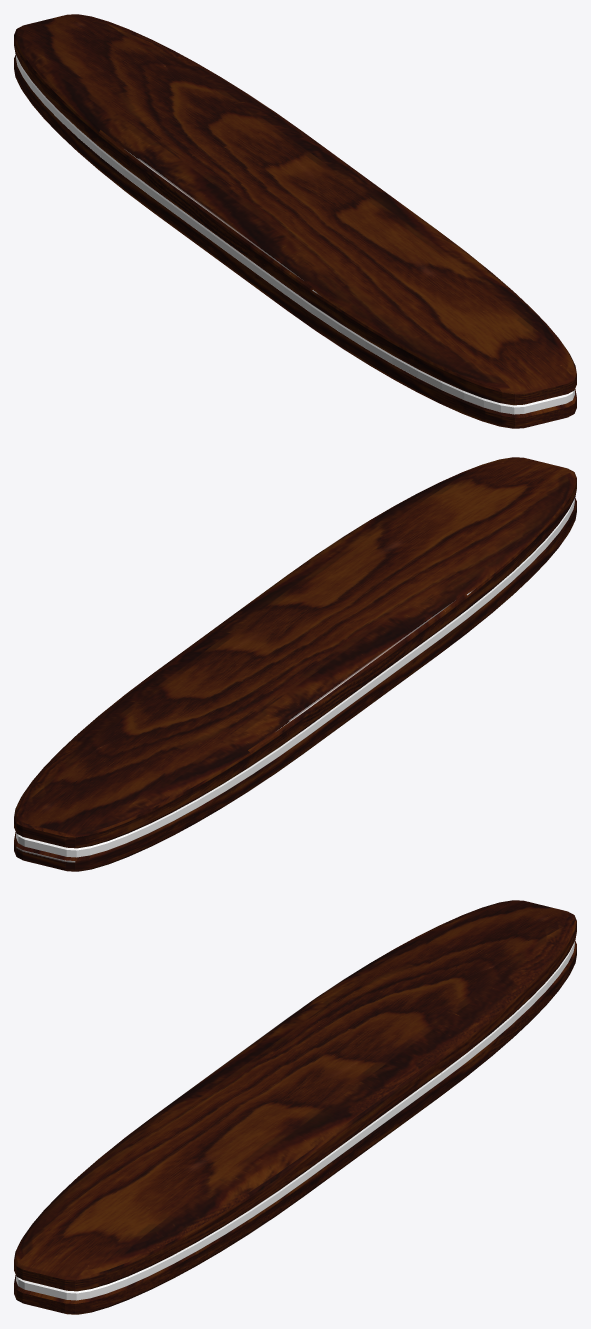
Rendered from Sidestep.fbx.
The picture shows the model from 3 angles, top to bottom: view 1: azimuth 30°, elevation 25°; view 2: azimuth 150°, elevation 25°; view 3: azimuth 330°, elevation 25°; orthographic projection.
Visible parts, largest first — view 1: Куб.001; view 2: Куб.001; view 3: Куб.001.
Boxes of the visible parts, box(x1,y1,x2,y2) form: Куб.001: box(14, 14, 576, 428); Куб.001: box(14, 457, 576, 871); Куб.001: box(14, 900, 576, 1314).
Bounding box in the file's own units: 391 × 26.34 × 70.64.
